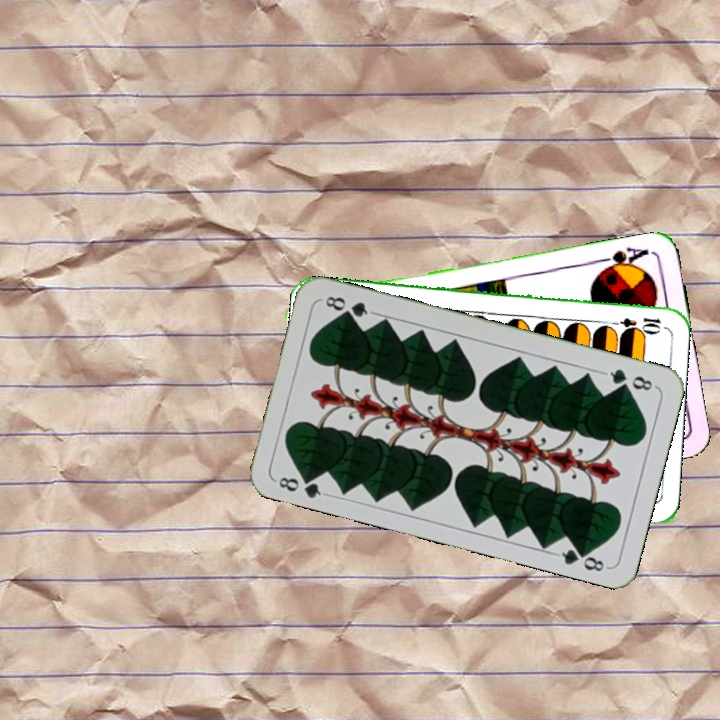E10: (604, 313, 664, 333)
G8: (271, 469, 330, 501), (600, 364, 658, 394)
SA: (594, 243, 652, 275)
